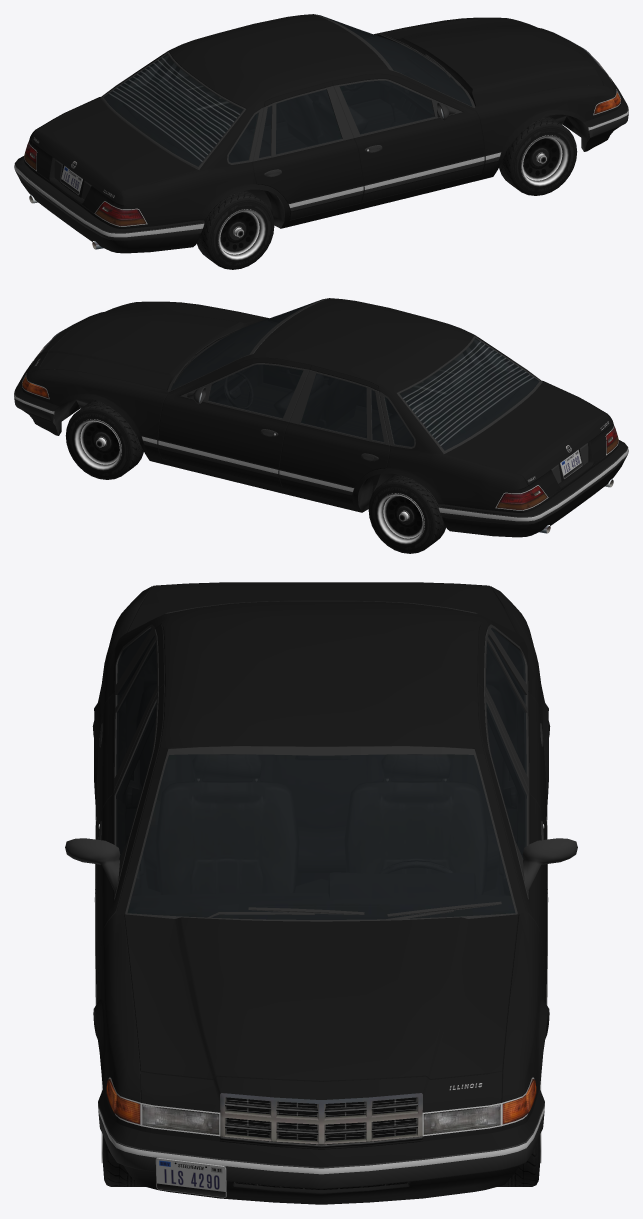
File: illinois90.glb
3 renders of one model, top to bottom at view 1: azimuth 30°, elevation 25°; view 2: azimuth 150°, elevation 25°; view 3: azimuth 270°, elevation 25°, orthographic. The views are drawn at different scales.
Parts seen in each view (by area): view 1: Illinois90_Body_Illinois90_Bodymat_0, Illinois90_Interior_UCB_Interiors_2_0, Illinois90_Hood_Illinois90_Bodymat_0, Illinois90_Trunkdoor_Illinois90_Bodymat_0, Illinois90_Bottom_UCB_BOTTOM_0, Illinois90_Rear_Glass_UCB_Lights_and_Glass_Transperent_0, Illinois90_Body_Glass_UCB_Lights_and_Glass_Transperent_0, Illinois90_WheelStock_RR_RB1c_Tire_1k_0, Illinois90_WheelStock_FR_RB1c_Tire_1k_0, Illinois90_Glass_Passenger_UCB_Lights_and_Glass_Transperent_, Illinois90_Bumper_rear_Illinois90_Bodymat_0, Illinois90_Windshield_UCB_Lights_and_Glass_Transperent_0 (+7 smaller); view 2: Illinois90_Body_Illinois90_Bodymat_0, Illinois90_Interior_UCB_Interiors_2_0, Illinois90_Hood_Illinois90_Bodymat_0, Illinois90_Trunkdoor_Illinois90_Bodymat_0, Illinois90_Bottom_UCB_BOTTOM_0, Illinois90_Rear_Glass_UCB_Lights_and_Glass_Transperent_0, Illinois90_Body_Glass_UCB_Lights_and_Glass_Transperent_0, Illinois90_WheelStock_RL_RB1c_Tire_1k_0, Illinois90_WheelStock_FL_RB1c_Tire_1k_0, Illinois90_glass_Driver_UCB_Lights_and_Glass_Transperent_0, Illinois90_Bumper_rear_Illinois90_Bodymat_0, Illinois90_Windshield_UCB_Lights_and_Glass_Transperent_0 (+7 smaller); view 3: Illinois90_Body_Illinois90_Bodymat_0, Illinois90_Interior_UCB_Interiors_2_0, Illinois90_Hood_Illinois90_Bodymat_0, Illinois90_Windshield_UCB_Lights_and_Glass_Transperent_0, Illinois90_Bottom_UCB_BOTTOM_0, Illinois90_Bumper_front_Illinois90_Bodymat_0, Illinois90_Bumper_front_inner_UCB_BOTTOM_0, Illinois90_Trunkdoor_Illinois90_Bodymat_0, Illinois90_Body_Glass_UCB_Lights_and_Glass_Transperent_0, Illinois90_Headlights_Glass_UCB_Lights_and_Glass_Transperent, Illinois90_Headlights_UCB_Lights_and_Glass_0, Illinois90_glass_Driver_UCB_Lights_and_Glass_Transperent_0 (+5 smaller).
Part boxes in pixels (x1,y1,x2,y2): Illinois90_Body_Illinois90_Bodymat_0: (24, 14, 621, 228); Illinois90_Interior_UCB_Interiors_2_0: (104, 19, 471, 201); Illinois90_Hood_Illinois90_Bodymat_0: (377, 18, 603, 106); Illinois90_Trunkdoor_Illinois90_Bodymat_0: (32, 98, 197, 213); Illinois90_Bottom_UCB_BOTTOM_0: (24, 14, 620, 249); Illinois90_Rear_Glass_UCB_Lights_and_Glass_Transperent_0: (103, 54, 243, 166); Illinois90_Body_Glass_UCB_Lights_and_Glass_Transperent_0: (129, 56, 342, 162); Illinois90_WheelStock_RR_RB1c_Tire_1k_0: (197, 190, 274, 269); Illinois90_WheelStock_FR_RB1c_Tire_1k_0: (499, 116, 577, 195); Illinois90_Glass_Passenger_UCB_Lights_and_Glass_Transperent_: (339, 80, 434, 134); Illinois90_Bumper_rear_Illinois90_Bodymat_0: (15, 156, 204, 253); Illinois90_Windshield_UCB_Lights_and_Glass_Transperent_0: (319, 15, 472, 106); Illinois90_Body_Illinois90_Bodymat_0: (21, 298, 618, 512); Illinois90_Interior_UCB_Interiors_2_0: (171, 303, 538, 494); Illinois90_Hood_Illinois90_Bodymat_0: (39, 302, 265, 390); Illinois90_Trunkdoor_Illinois90_Bodymat_0: (445, 382, 610, 497); Illinois90_Bottom_UCB_BOTTOM_0: (22, 298, 618, 533); Illinois90_Rear_Glass_UCB_Lights_and_Glass_Transperent_0: (399, 338, 539, 450); Illinois90_Body_Glass_UCB_Lights_and_Glass_Transperent_0: (300, 340, 513, 446); Illinois90_WheelStock_RL_RB1c_Tire_1k_0: (368, 474, 445, 553); Illinois90_WheelStock_FL_RB1c_Tire_1k_0: (65, 400, 143, 479); Illinois90_glass_Driver_UCB_Lights_and_Glass_Transperent_0: (208, 364, 303, 418); Illinois90_Bumper_rear_Illinois90_Bodymat_0: (438, 440, 627, 537); Illinois90_Windshield_UCB_Lights_and_Glass_Transperent_0: (170, 299, 323, 390); Illinois90_Body_Illinois90_Bodymat_0: (94, 586, 548, 1141); Illinois90_Interior_UCB_Interiors_2_0: (118, 632, 524, 919); Illinois90_Hood_Illinois90_Bodymat_0: (124, 914, 518, 1081); Illinois90_Windshield_UCB_Lights_and_Glass_Transperent_0: (127, 754, 515, 919); Illinois90_Bottom_UCB_BOTTOM_0: (65, 600, 577, 1149); Illinois90_Bumper_front_Illinois90_Bodymat_0: (98, 1089, 544, 1204); Illinois90_Bumper_front_inner_UCB_BOTTOM_0: (98, 1102, 544, 1189); Illinois90_Trunkdoor_Illinois90_Bodymat_0: (127, 582, 515, 632); Illinois90_Body_Glass_UCB_Lights_and_Glass_Transperent_0: (116, 628, 526, 773); Illinois90_Headlights_Glass_UCB_Lights_and_Glass_Transperent: (106, 1079, 536, 1134); Illinois90_Headlights_UCB_Lights_and_Glass_0: (143, 1105, 499, 1134); Illinois90_glass_Driver_UCB_Lights_and_Glass_Transperent_0: (486, 702, 526, 859).
Size of the model in its own units: 5.17 by 1.43 by 2.09.
Materials: 8 (7 with a texture image).
